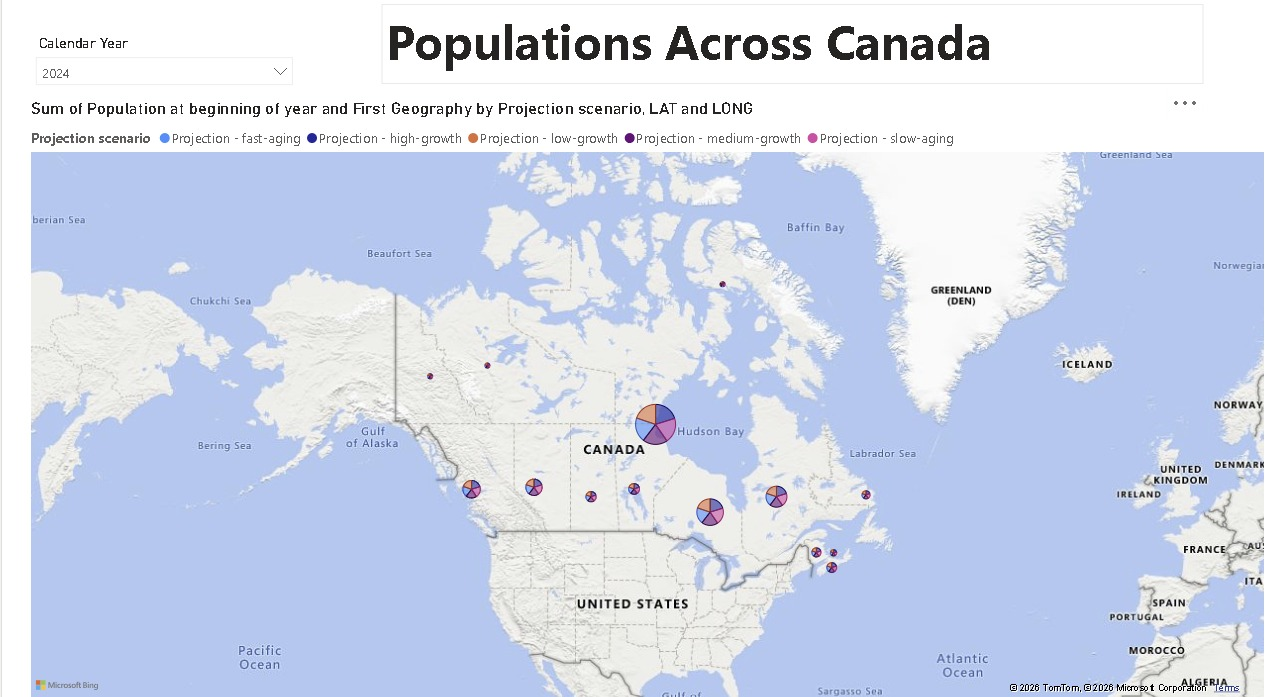

Layout of this report page (visuals, bound fields, positions):
{"tool":"powerbi","page":{"name":"Map","canvas":[1280,720],"ordinal":3},"visuals":[{"type":"slicer","fields":{"Values":["Detailed Projections.Calendar Year"]},"box":[24,37.7,279.3,109.7],"z":0},{"type":"map","fields":{"Y":["Geography.LAT"],"X":["Geography.LONG"],"Size":["Sum(Detailed Projections.Population at beginning of year)"],"Series":["Detailed Projections.Projection scenario"]},"box":[24.5,107.2,1234.1,612.4],"z":1000},{"type":"textbox","box":[382.8,12.2,829.9,79.6],"z":2000}]}

Visuals, with their boxes in screenshot pixels (x1, y1, x2, y2), scaled from the page's 1280x720 canvas onto the 1266x697 screenshot:
slicer - Detailed Projections.Calendar Year: 24/36/300/143
map - Geography.LAT x Geography.LONG: 24/104/1245/696
textbox: 379/12/1199/89
